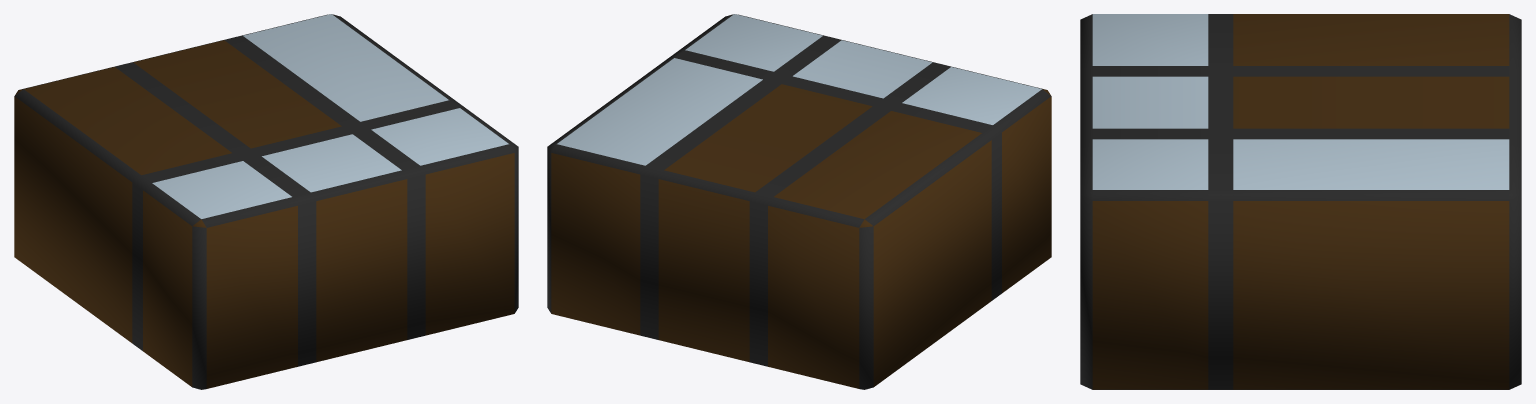
Rendered from floor1.glb.
3 views of the same model, side by side, from view 1: azimuth 30°, elevation 25°; view 2: azimuth 150°, elevation 25°; view 3: azimuth 270°, elevation 25° (orthographic). The views are drawn at different scales.
Parts seen in each view (by area): view 1: Cube; view 2: Cube; view 3: Cube.
Part boxes in pixels (x1,y1,x2,y2): Cube: (14, 14, 518, 389); Cube: (547, 14, 1051, 389); Cube: (1080, 14, 1521, 389).
Size of the model in its own units: 2 by 1 by 2.
